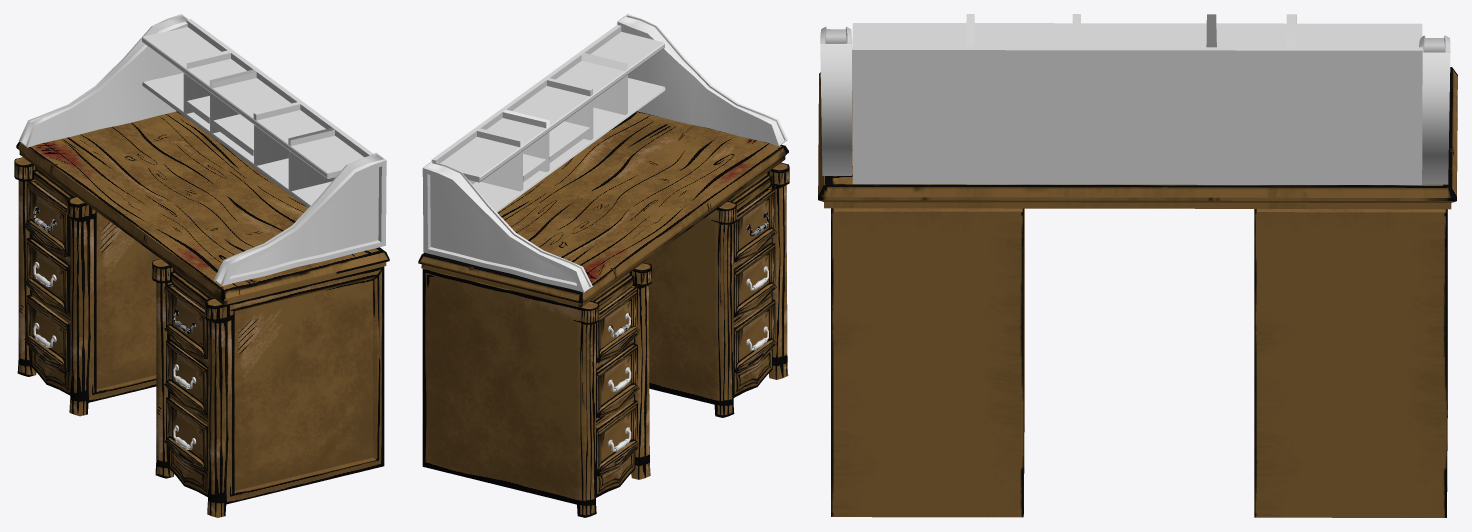
The model's file is OF_Desk.fbx.
3 views of the same model, side by side, from view 1: azimuth 30°, elevation 25°; view 2: azimuth 150°, elevation 25°; view 3: azimuth 270°, elevation 25° (orthographic). The views are drawn at different scales.
Parts seen in each view (by area): view 1: Pata_Escritorio_Iq001, Tabla, Pata_Escritorio_Iq, Madera_Vertical, Box003, Box002, Cajon_007, Cajon_008, Cajon_009, Cajon_005, Cajon_006, Cajon_004 (+3 smaller); view 2: Pata_Escritorio_Iq, Tabla, Pata_Escritorio_Iq001, Madera_Vertical, Box002, Box003, Cajon_007, Cajon_008, Cajon_009, Cajon_005, Cajon_006, Cajon_004 (+2 smaller); view 3: Madera_Vertical, Pata_Escritorio_Iq001, Pata_Escritorio_Iq, Tabla, Box003, Box002.
Part boxes in pixels (x1=…): Pata_Escritorio_Iq001: x1=152, y1=259, x2=384, y2=517; Tabla: x1=16, y1=111, x2=389, y2=305; Pata_Escritorio_Iq: x1=14, y1=157, x2=160, y2=416; Madera_Vertical: x1=142, y1=19, x2=373, y2=207; Box003: x1=214, y1=152, x2=386, y2=285; Box002: x1=19, y1=14, x2=188, y2=147; Cajon_007: x1=164, y1=284, x2=207, y2=358; Cajon_008: x1=164, y1=340, x2=207, y2=414; Cajon_009: x1=164, y1=397, x2=207, y2=471; Cajon_005: x1=24, y1=237, x2=70, y2=312; Cajon_006: x1=24, y1=294, x2=70, y2=369; Cajon_004: x1=25, y1=183, x2=70, y2=256; Pata_Escritorio_Iq: x1=422, y1=262, x2=651, y2=517; Tabla: x1=418, y1=111, x2=788, y2=307; Pata_Escritorio_Iq001: x1=644, y1=162, x2=789, y2=417; Madera_Vertical: x1=431, y1=25, x2=665, y2=212; Box002: x1=422, y1=161, x2=592, y2=292; Box003: x1=617, y1=14, x2=787, y2=146; Cajon_007: x1=733, y1=187, x2=776, y2=261; Cajon_008: x1=733, y1=243, x2=776, y2=316; Cajon_009: x1=733, y1=299, x2=776, y2=372; Cajon_005: x1=596, y1=344, x2=638, y2=417; Cajon_006: x1=596, y1=400, x2=639, y2=473; Cajon_004: x1=596, y1=291, x2=639, y2=362; Madera_Vertical: x1=852, y1=14, x2=1422, y2=184; Pata_Escritorio_Iq001: x1=831, y1=208, x2=1024, y2=517; Pata_Escritorio_Iq: x1=1254, y1=209, x2=1447, y2=517; Tabla: x1=818, y1=67, x2=1457, y2=209; Box003: x1=820, y1=26, x2=851, y2=175; Box002: x1=1419, y1=35, x2=1450, y2=184.
Size of the model in its own units: 79.9 by 165 by 139.
